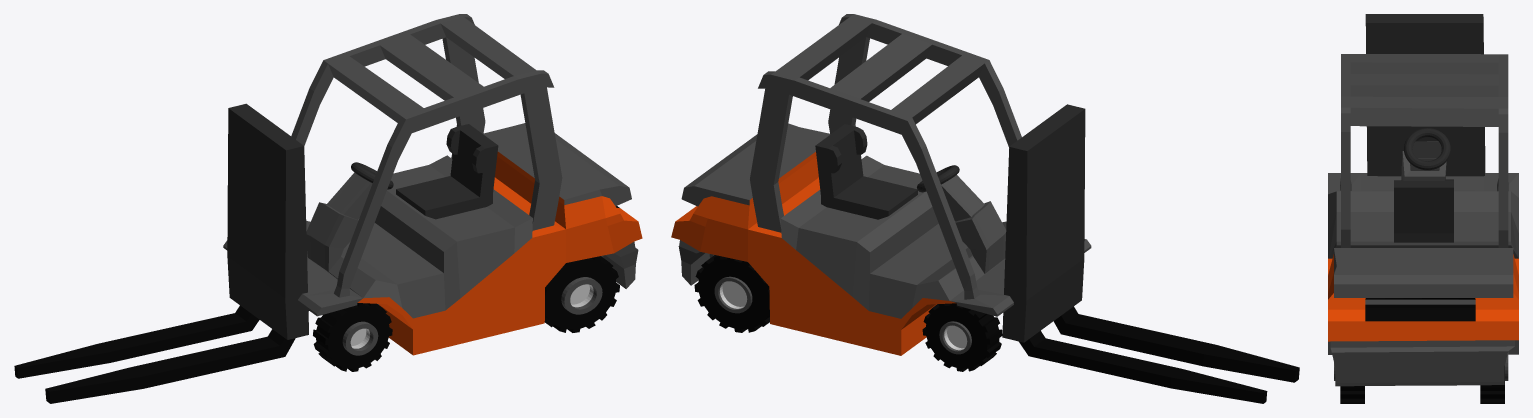
The model's file is Forklift2.fbx.
3 views of the same model, side by side, from view 1: azimuth 30°, elevation 25°; view 2: azimuth 150°, elevation 25°; view 3: azimuth 270°, elevation 25° (orthographic).
Visible parts, largest first — view 1: Forklift; view 2: Forklift; view 3: Forklift.
Part boxes in pixels (x1=…): Forklift: x1=14, y1=14, x2=642, y2=403; Forklift: x1=671, y1=14, x2=1299, y2=403; Forklift: x1=1328, y1=14, x2=1518, y2=403.
Size of the model in its own units: 1337 by 607 by 385.
